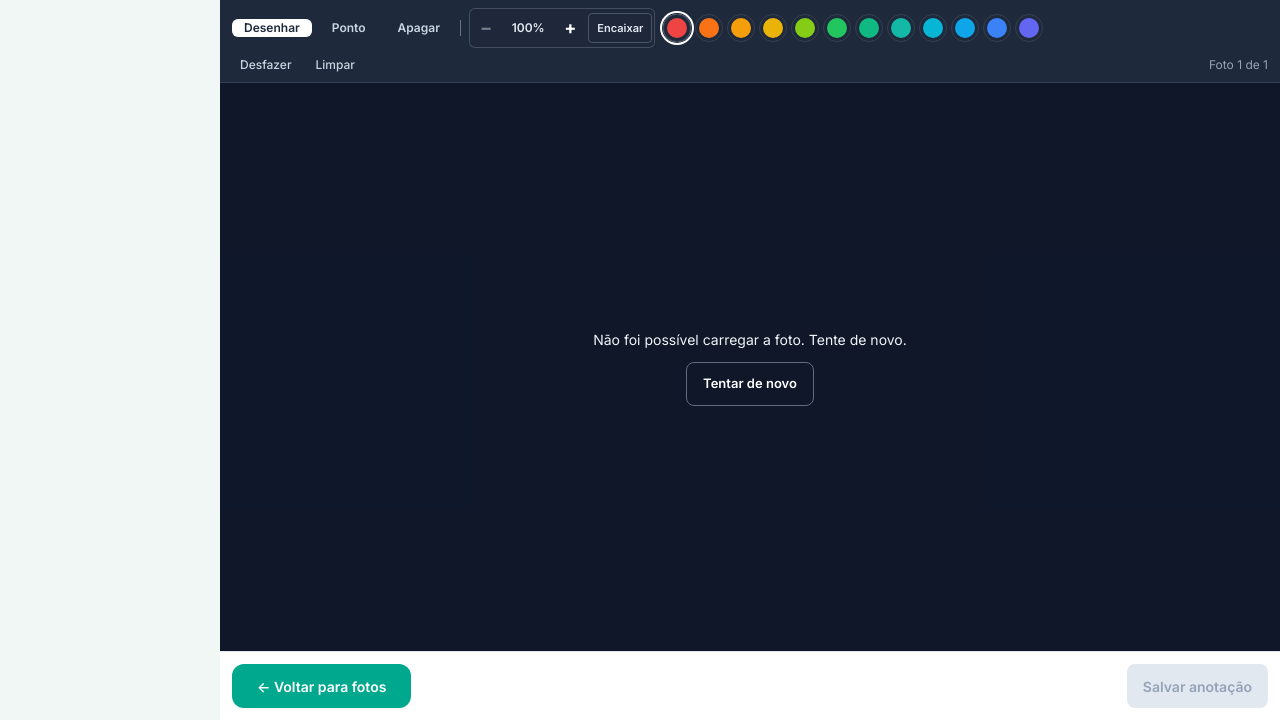
Test case: JourneyPhotoAnnotationEditor — carregar a foto › (a) URL do servidor com o fetch falhando: mostra o erro e o Salvar fica desabilitado
expect the text "Não foi possível carregar a foto. Tente de novo." is shown: met, box [593, 328, 907, 350]
expect the button "Salvar anotação" is disabled: met, box [1127, 664, 1268, 708]
Click the button "Tentar de novo".
click(750, 384)  # box [686, 362, 814, 406]
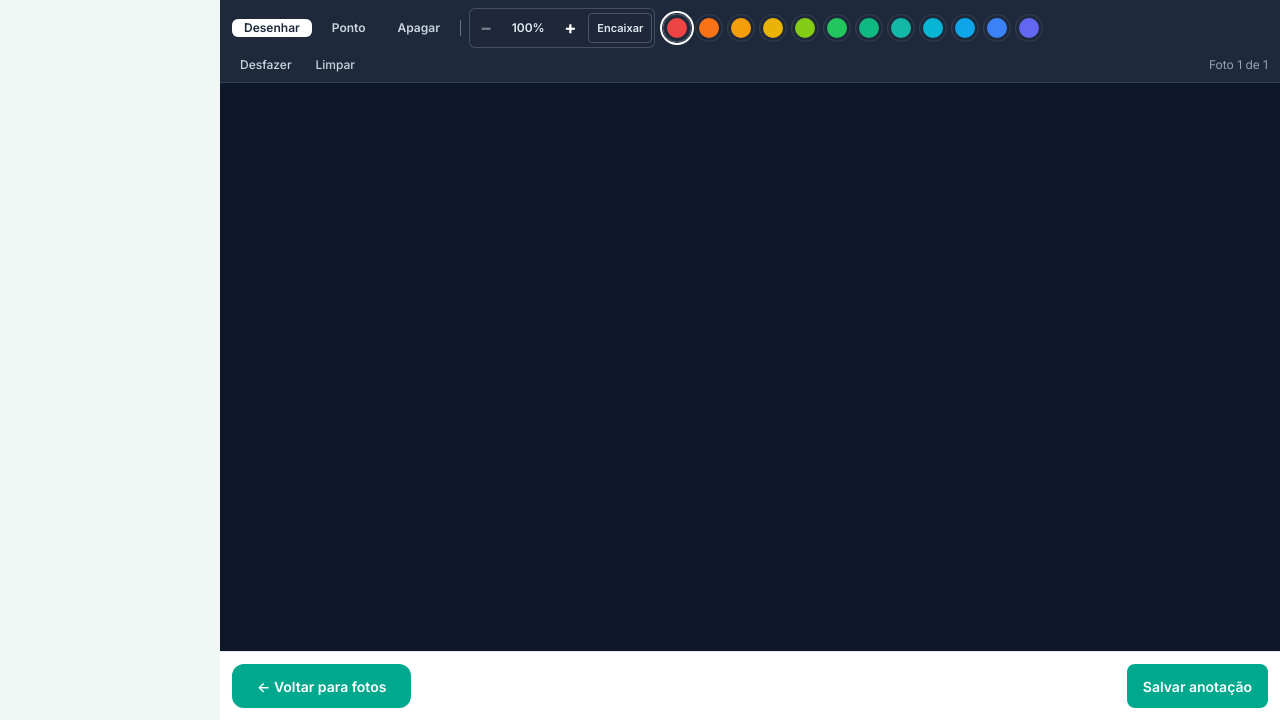
expect the button "Salvar anotação" is enabled: met, box [1127, 664, 1268, 708]
expect the text "Não foi possível carregar a foto. Tente de novo." is gone: met
